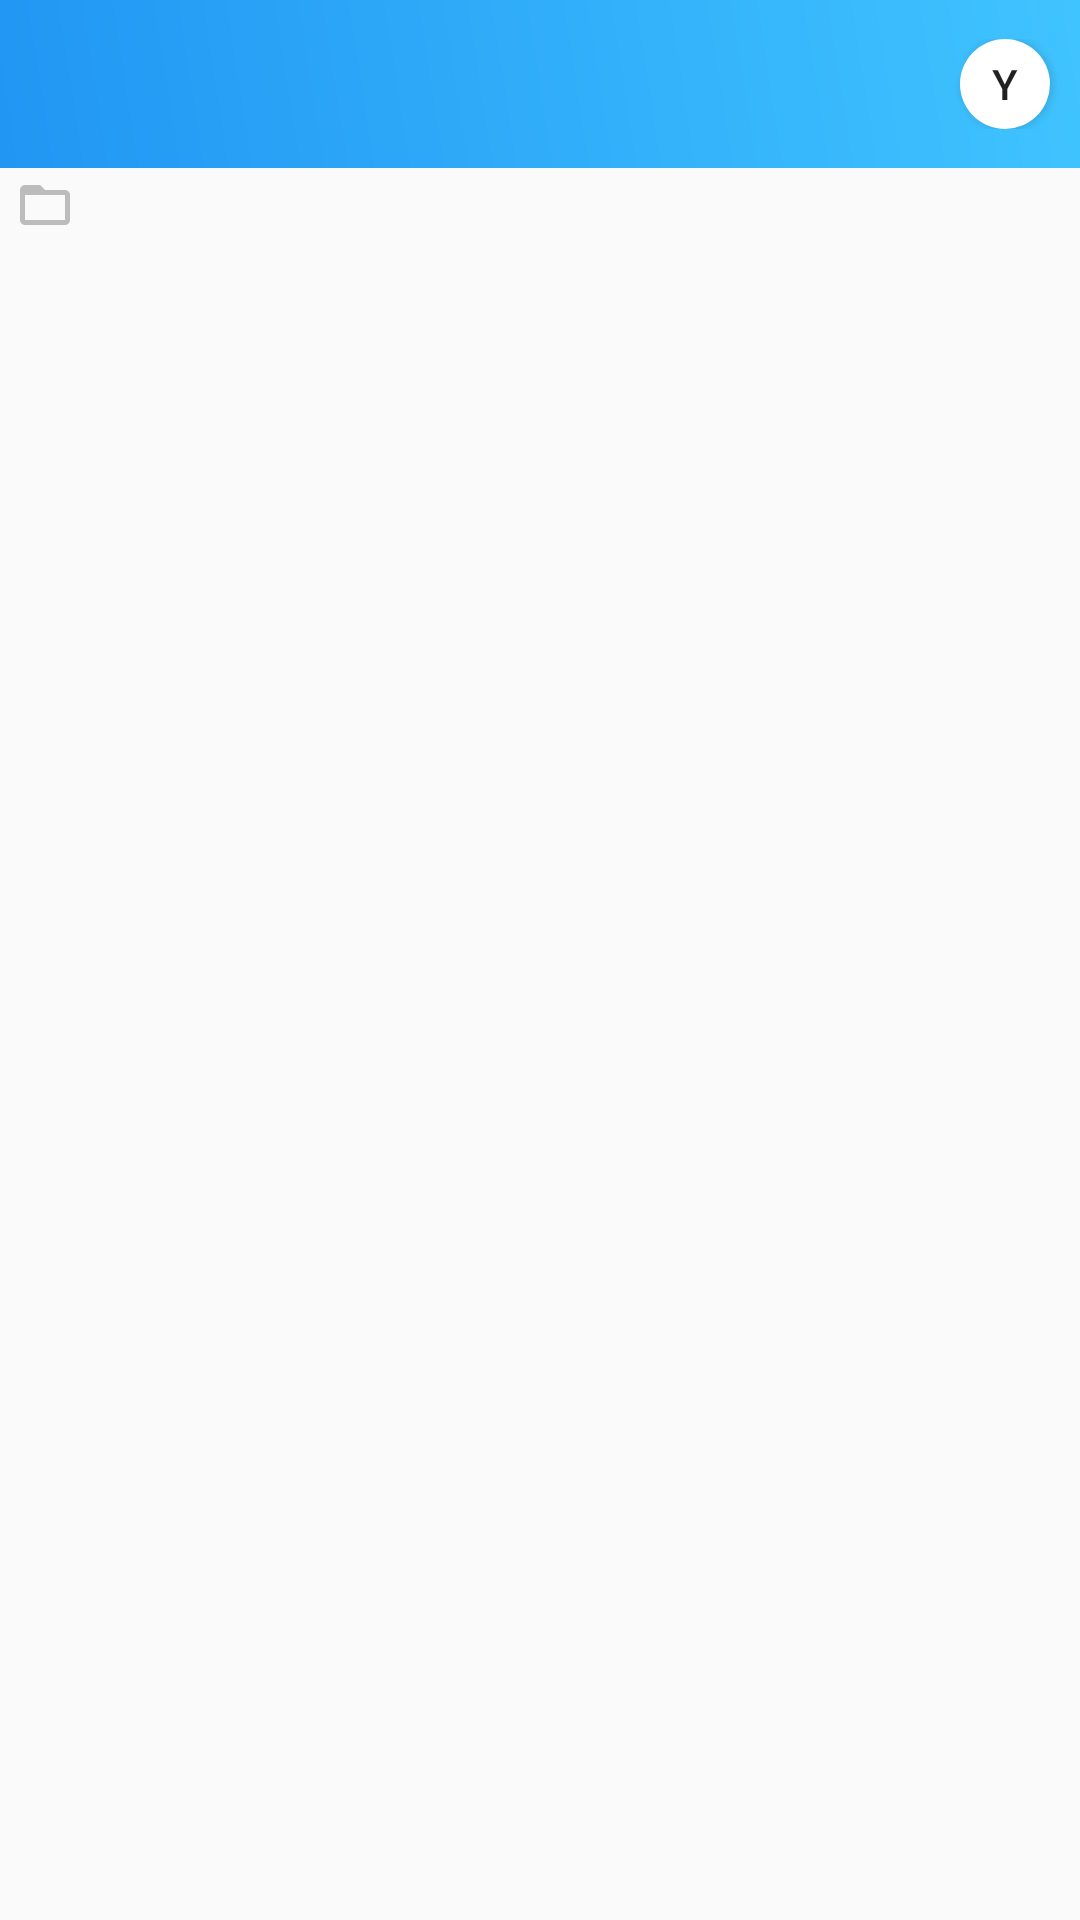

Where to tap for icons on this 1080*1920 app screen, as (x=x, y=y):
folder open: (x=45, y=205)
